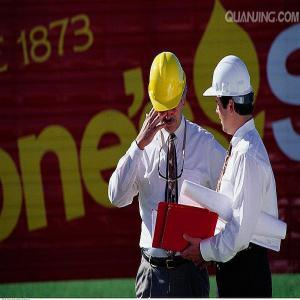white: (205, 55, 257, 140)
yellow: (149, 52, 188, 133)
